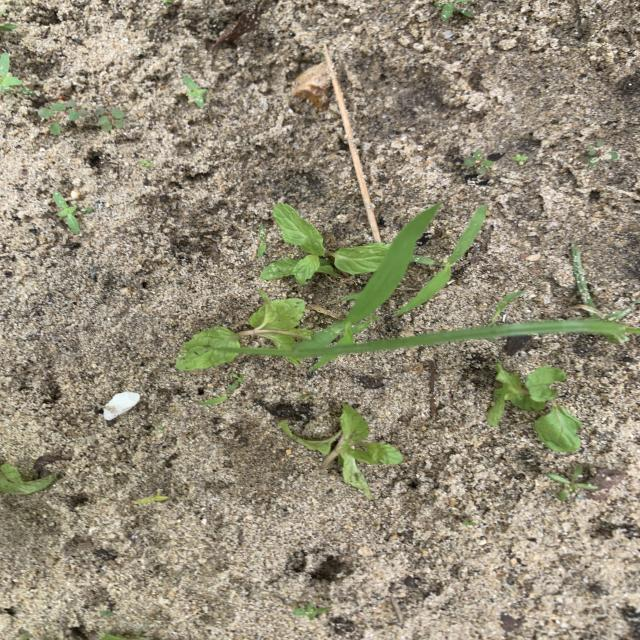crop: (280, 404, 403, 497), (176, 290, 313, 370), (260, 204, 389, 284), (486, 363, 565, 426), (0, 455, 72, 496), (535, 405, 581, 452)
weed: (393, 206, 486, 317), (375, 319, 640, 350), (359, 212, 429, 319), (37, 100, 125, 135), (51, 191, 94, 235), (546, 466, 597, 501), (461, 151, 504, 184), (201, 378, 243, 406), (0, 52, 28, 93), (312, 319, 350, 346), (336, 319, 372, 346), (433, 0, 475, 21), (182, 75, 207, 109), (293, 603, 330, 621), (98, 631, 163, 640), (134, 490, 169, 506)
